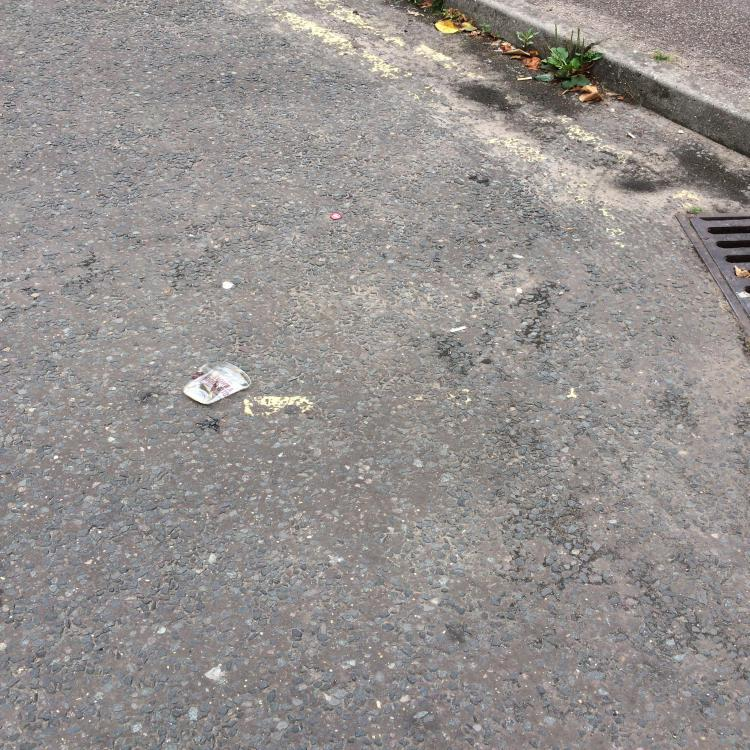Cigarette: (628, 132, 637, 139), (518, 77, 532, 81)
Disposable plastic cup: (183, 361, 252, 404)
Other plastic wrapper: (330, 213, 342, 219)
